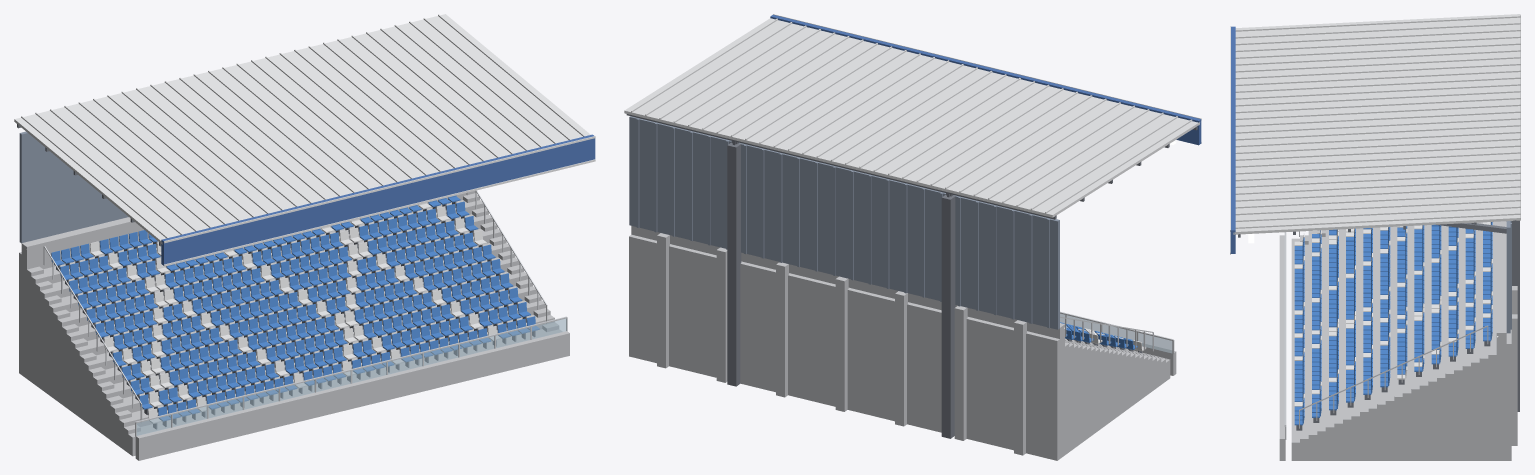
Rendered from grandstand.glb.
3 views of the same model, side by side, from view 1: azimuth 30°, elevation 25°; view 2: azimuth 150°, elevation 25°; view 3: azimuth 270°, elevation 25° (orthographic). The views are drawn at different scales.
Parts seen in each view (by area): view 1: grandstand; view 2: grandstand; view 3: grandstand.
Boxes of the visible parts, <box> form: grandstand: <box>14,14,595,460</box>; grandstand: <box>624,14,1201,460</box>; grandstand: <box>1230,14,1520,460</box>.
Size of the model in its own units: 24.06 by 13.41 by 14.46.
